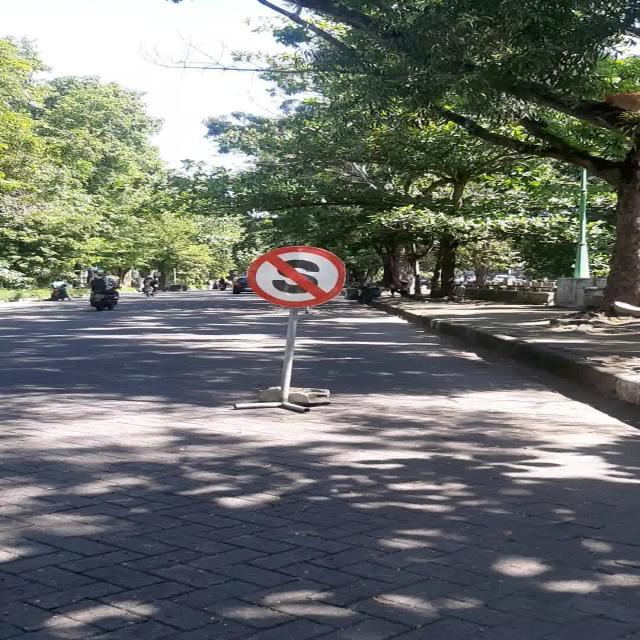Dilarang Berhenti: (248, 246, 346, 308)
